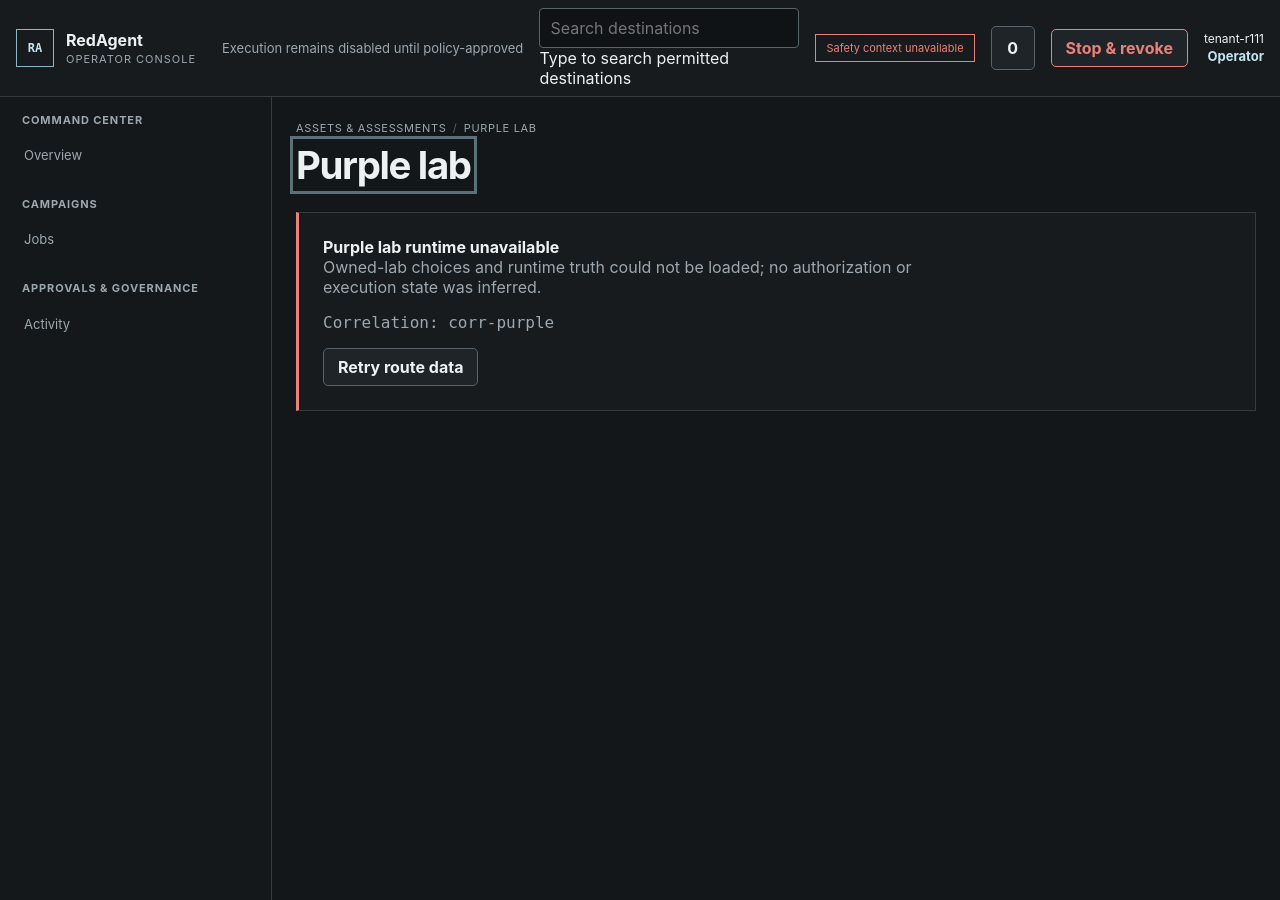
Test: projects a correlated purple lab outage and retries without inferring execution truth
Check: the message "Purple lab runtime unavailable" is shown, box 296,212 -> 1256,411
Check: the text "Correlation: corr-purple" is shown, box 323,313 -> 554,332
Click the button "Retry route data" at (401, 367), box 323,348 -> 478,386
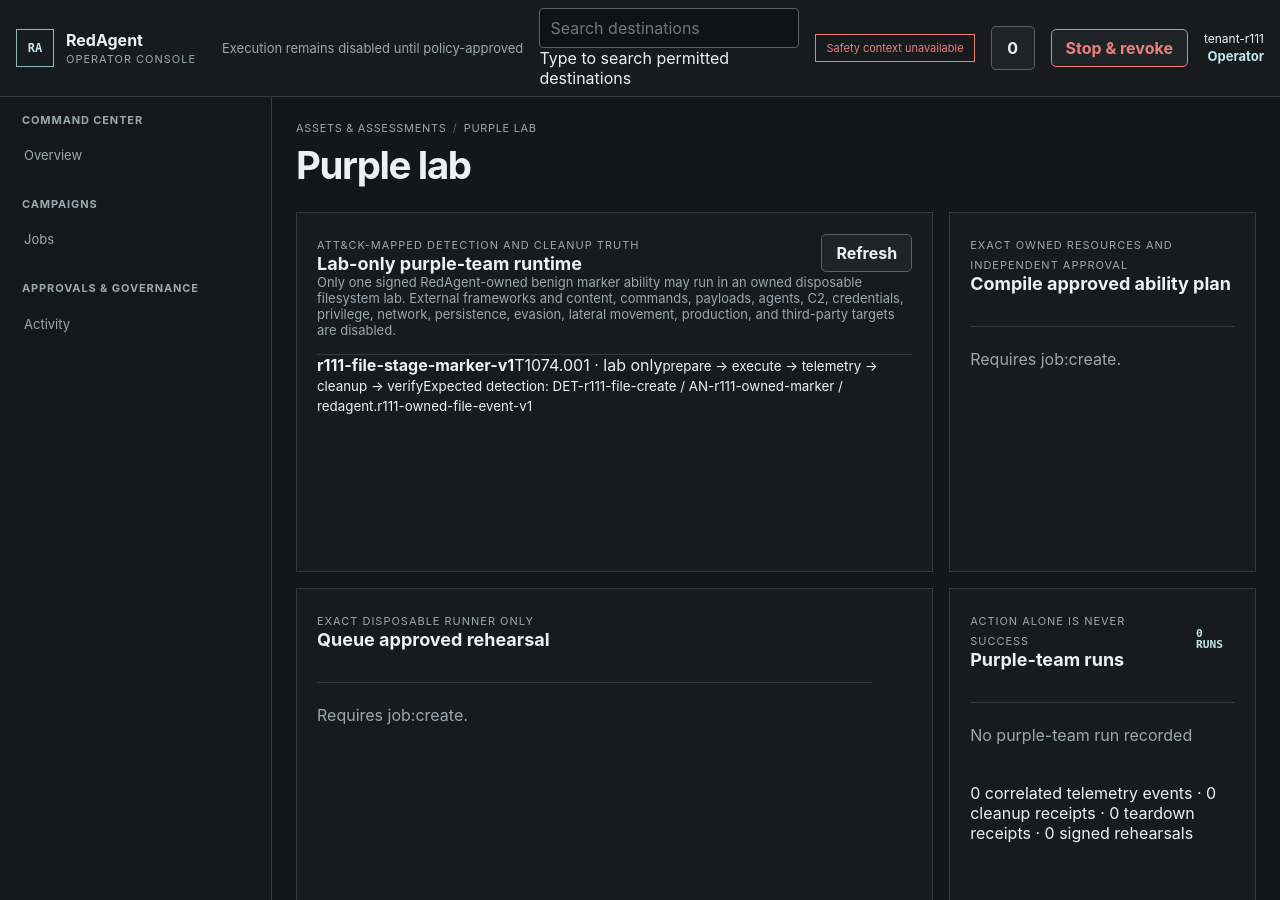
Check: the text "No purple-team run recorded" is shown, box 970,702 -> 1235,767
